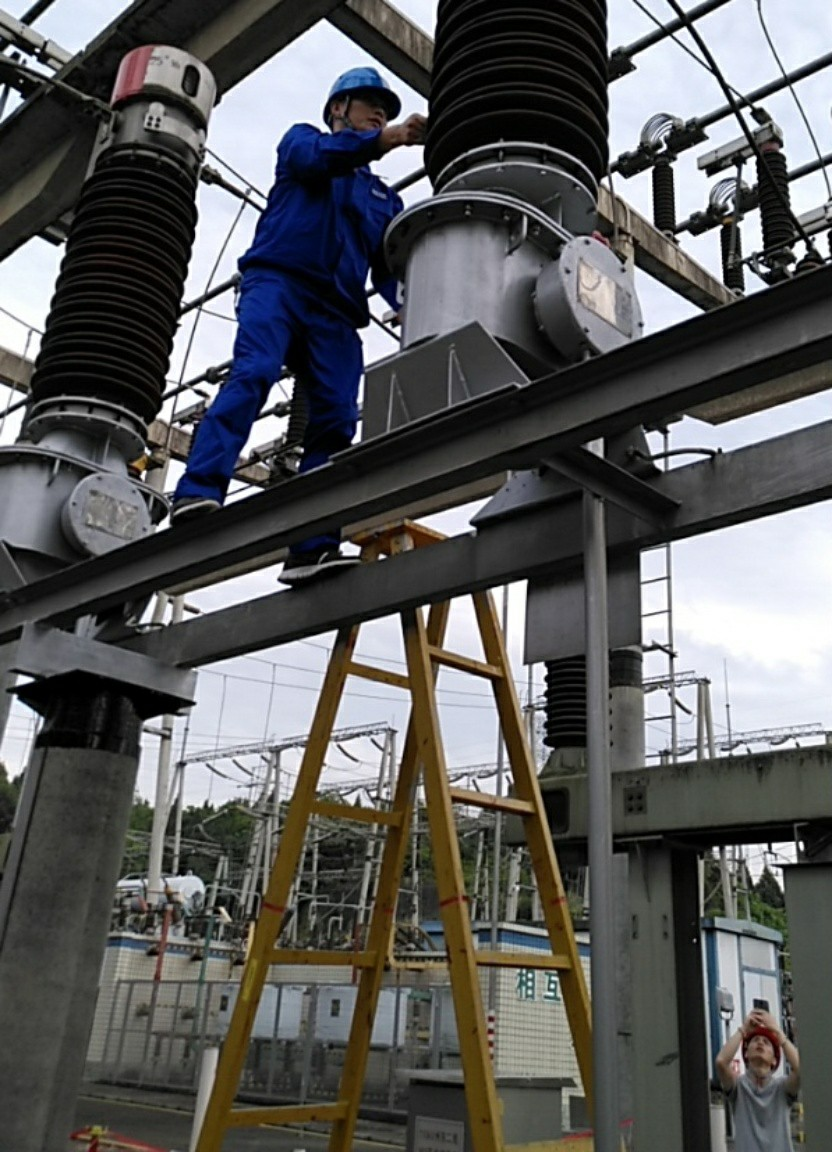hat: (319, 57, 403, 149)
no-hat: (732, 1023, 790, 1085)
